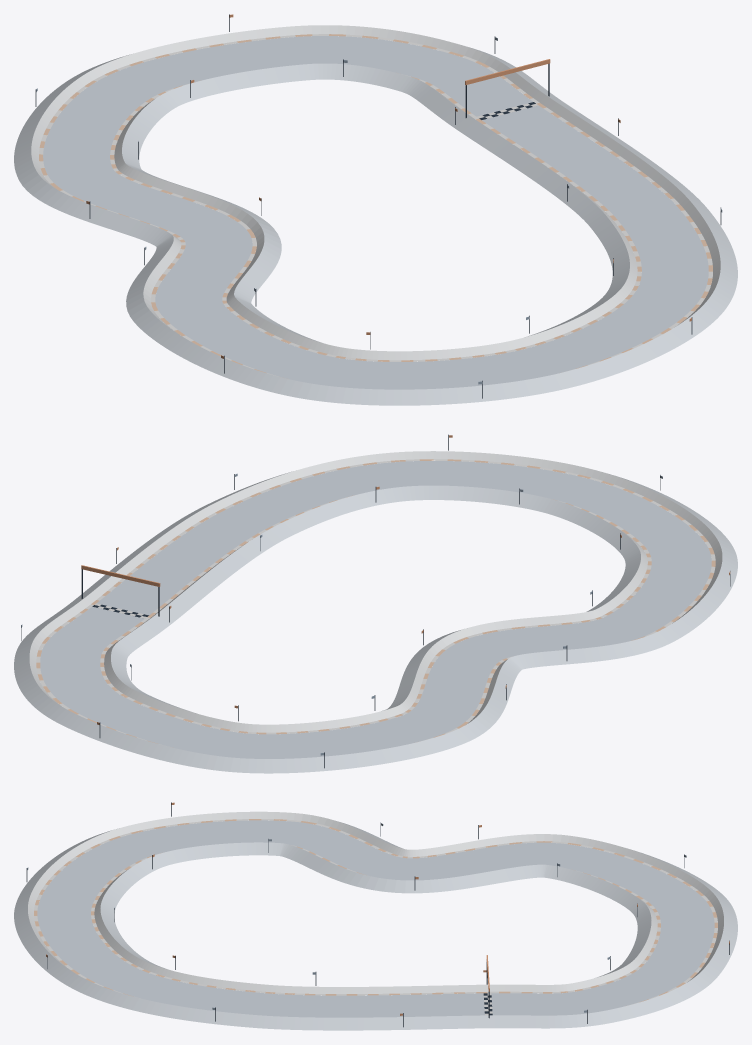
Rendered from track_snowcircuit.glb.
The picture shows the model from 3 angles, top to bottom: view 1: azimuth 30°, elevation 25°; view 2: azimuth 150°, elevation 25°; view 3: azimuth 270°, elevation 25°; orthographic projection. The views are drawn at different scales.
Visible parts, largest first — view 1: track_snowcircuit; view 2: track_snowcircuit; view 3: track_snowcircuit.
Boxes of the visible parts, <box> form: track_snowcircuit: <box>14,14,737,405</box>; track_snowcircuit: <box>14,434,737,773</box>; track_snowcircuit: <box>14,802,737,1030</box>.
Bounding box in the file's own units: 59.53 × 4.5 × 83.71.
